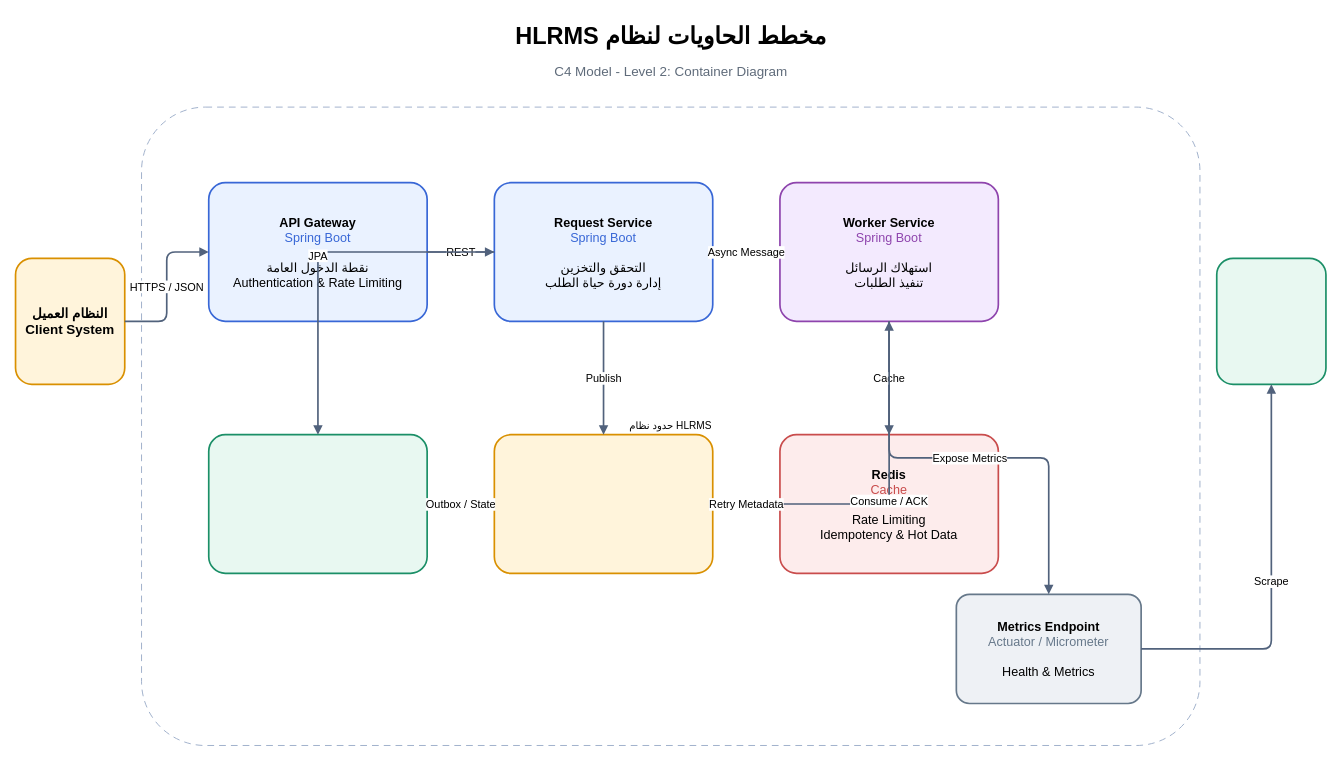
The diagram is 1341 pixels wide and 760 high, and some of its shapes have lost their labels. The centre of each missing label's shape, as x and y in pixels:
PostgreSQL Database الطلبات والحالات المحاولات والنتائج: the point at 317,503
RabbitMQ Message Broker Main Queues Retry Queues & DLQ: the point at 603,503
منصة المراقبة Monitoring: the point at 1270,321
